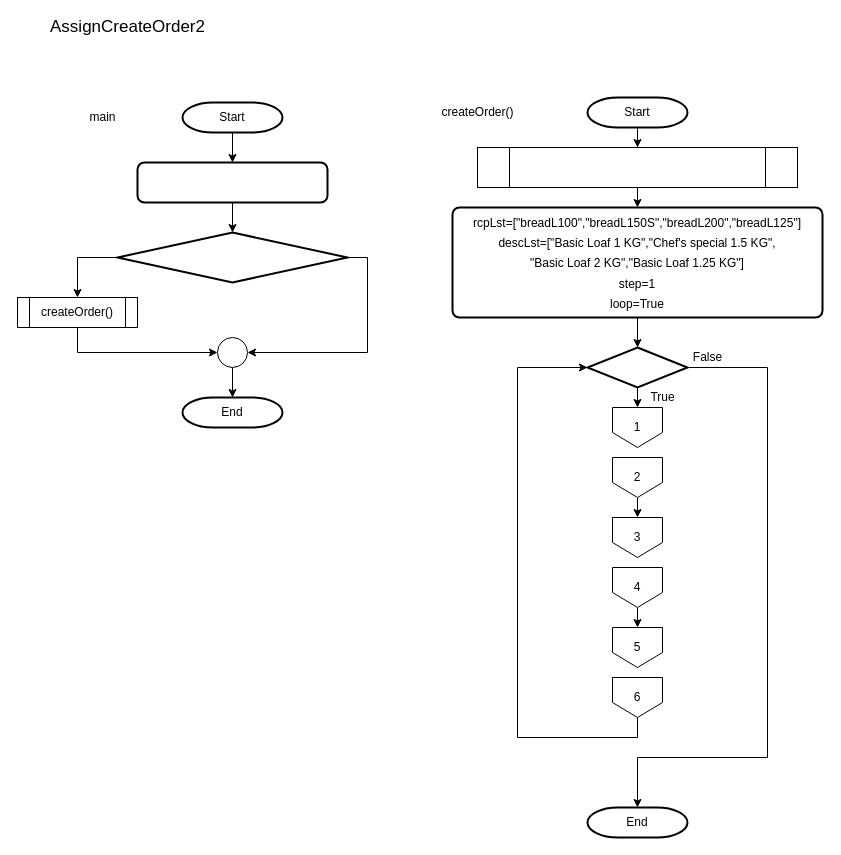
Image size: 841x855. Some labels were removed from this diagram. The shapes that lost their labels are listed below. From the top down, each one's centre as x and y in pixels, then its label:
point 232,182: import TextFileConn as Lib
point 637,167: g_rcpOrder,g_order=Lib.fileRead("","list of order.txt")
point 232,257: __name__ == "__main__"
point 637,367: loop
